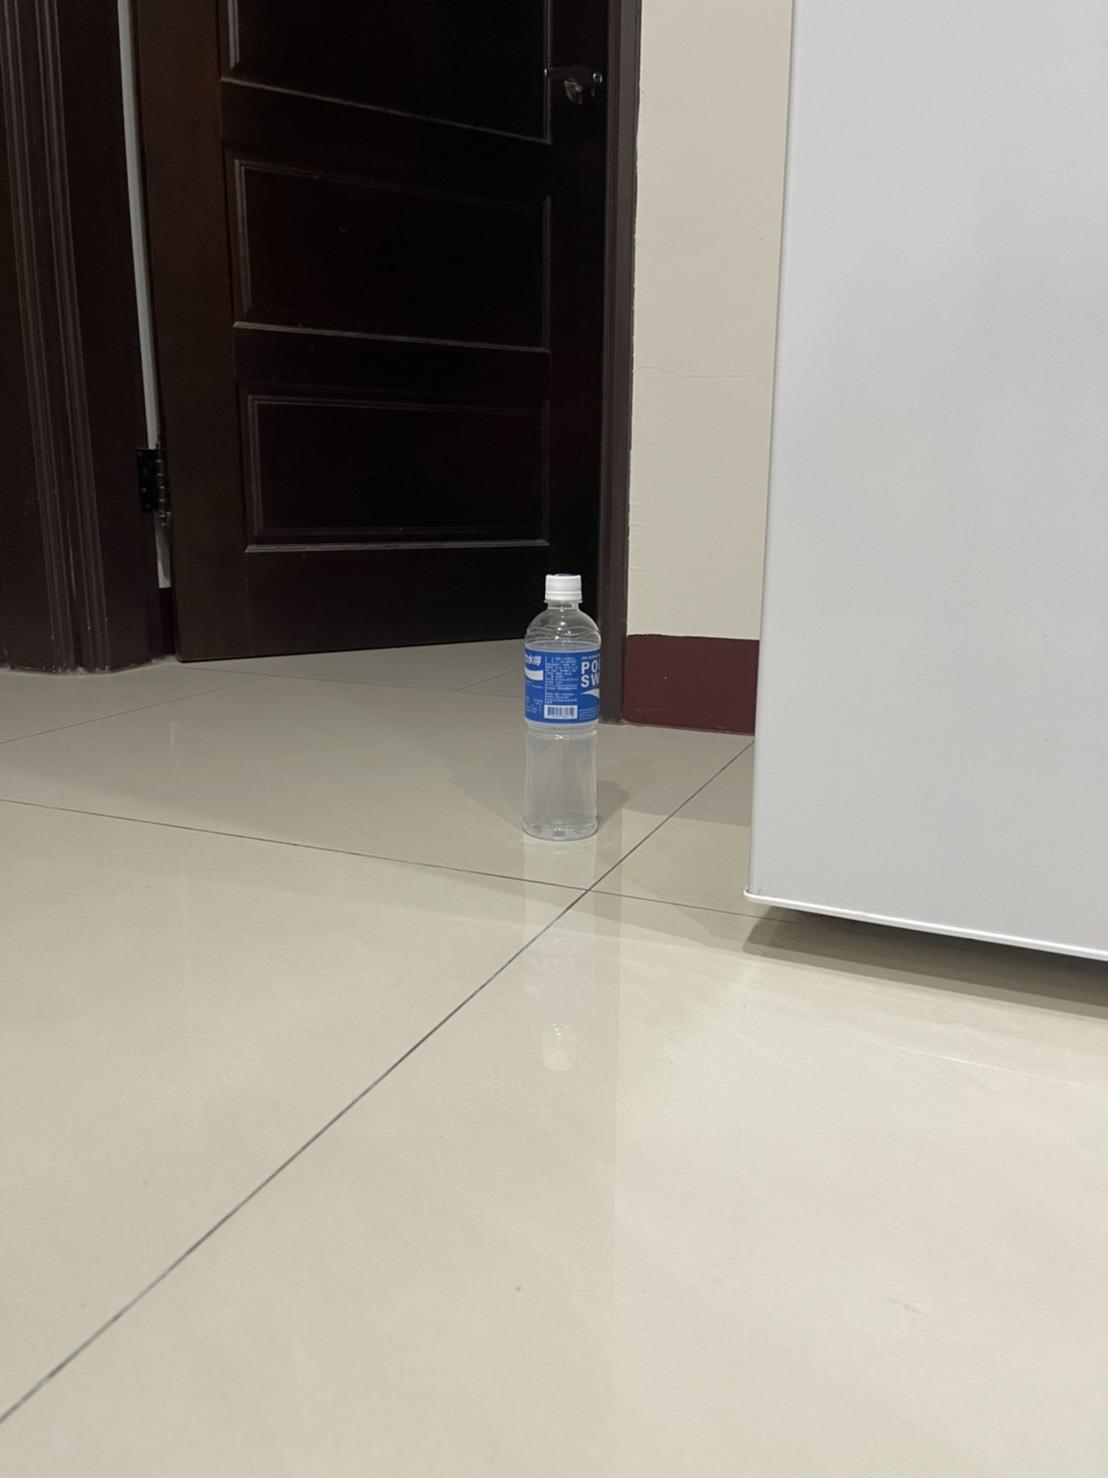bottle: (0, 556, 63, 857)
